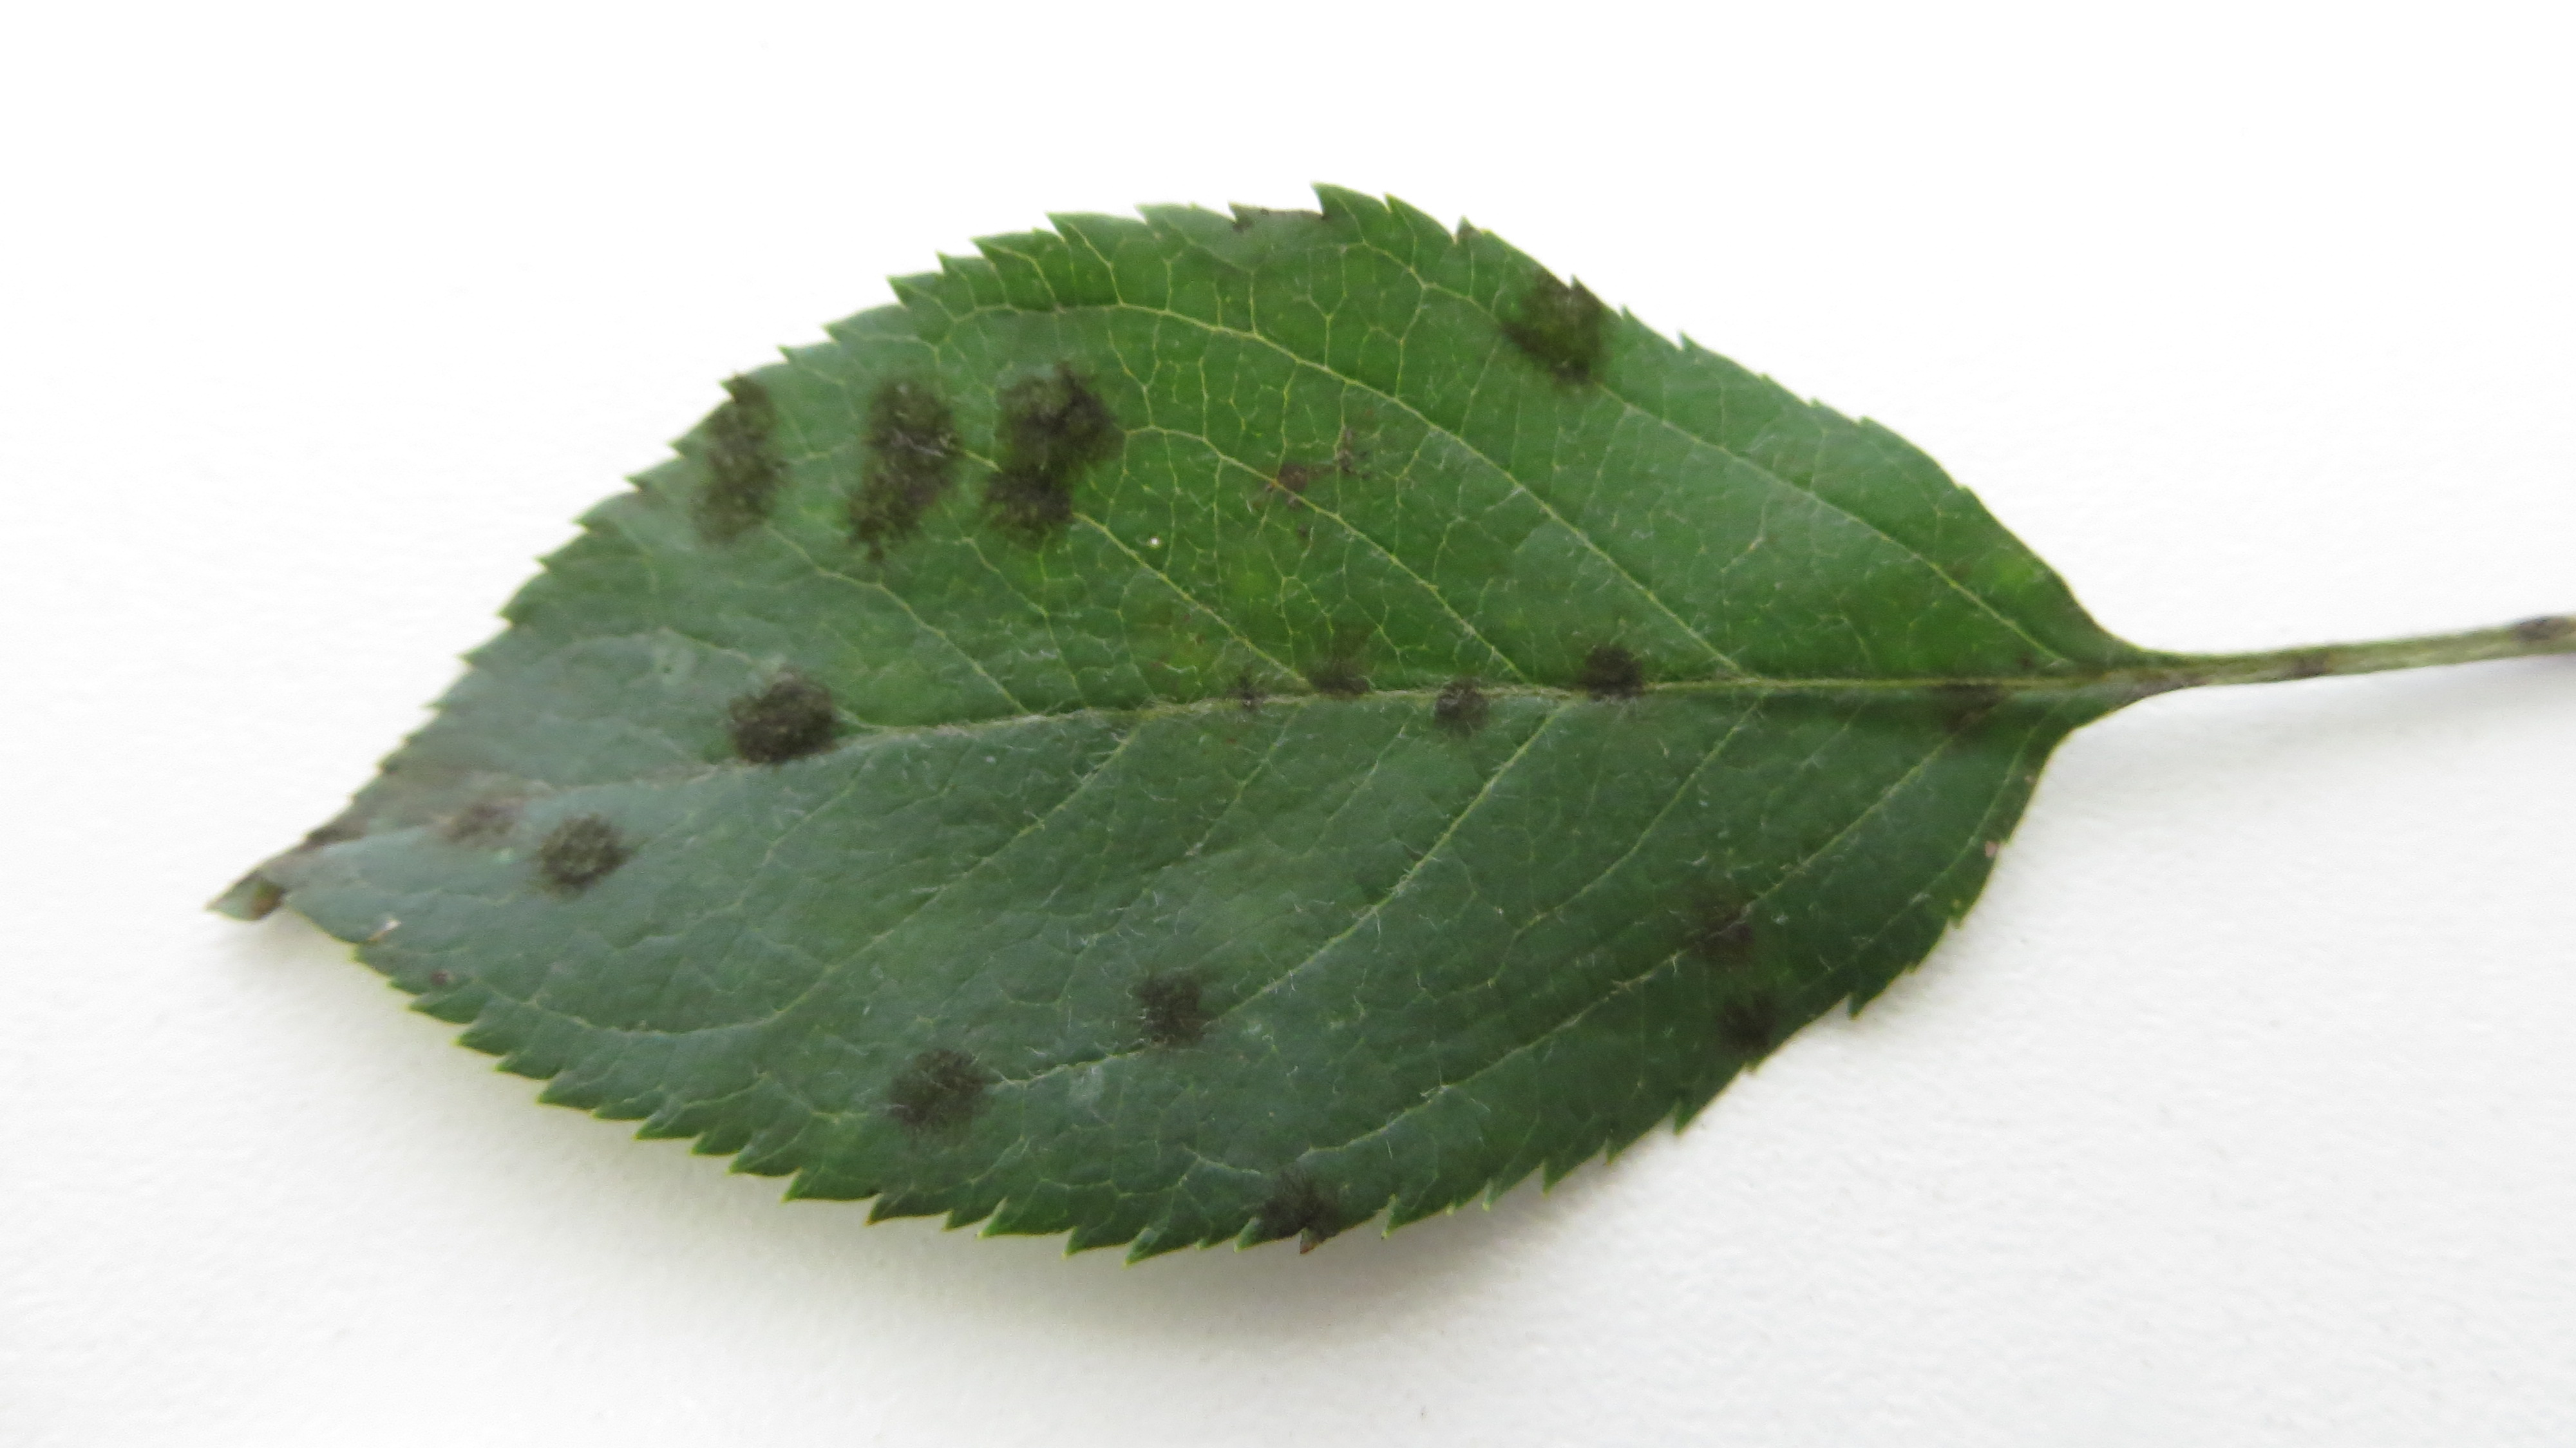sarna: (971, 340, 1125, 558), (821, 354, 968, 556), (683, 365, 793, 558), (708, 648, 853, 789), (1481, 262, 1614, 397), (862, 1034, 1003, 1140), (1242, 430, 1373, 538), (1113, 942, 1224, 1064), (1292, 604, 1399, 728), (414, 761, 531, 871), (1231, 1136, 1350, 1244), (1171, 630, 1297, 728), (522, 789, 628, 905), (1674, 846, 1767, 970), (1698, 968, 1794, 1067), (1913, 651, 2013, 745), (1562, 632, 1661, 720), (1412, 648, 1499, 738)
